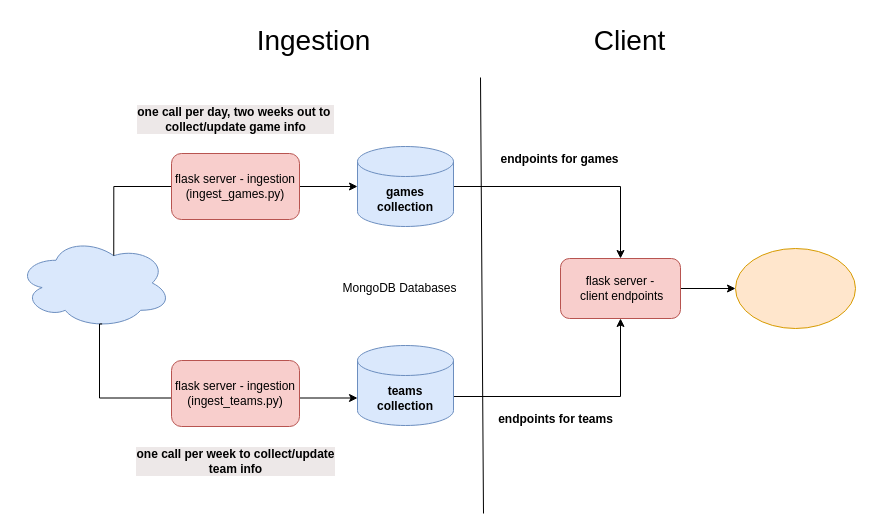
This 873x532 diagram has some shape labels left out. Each missing label, with the centre of its shape:
Frontend (react): the point at 795,288
Public Soccer API: the point at 94,282
